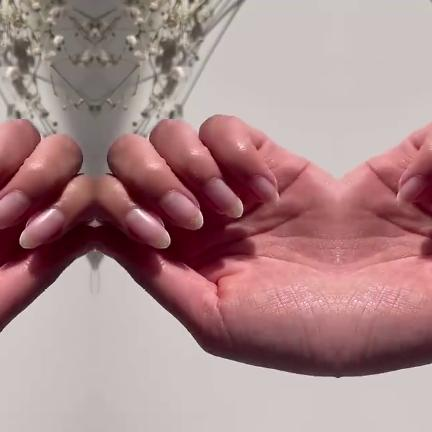Nail: (124, 208, 170, 249), (18, 208, 64, 249), (158, 191, 203, 230), (203, 178, 242, 218), (0, 191, 30, 230), (247, 177, 278, 208), (396, 177, 427, 208), (432, 206, 432, 213)
